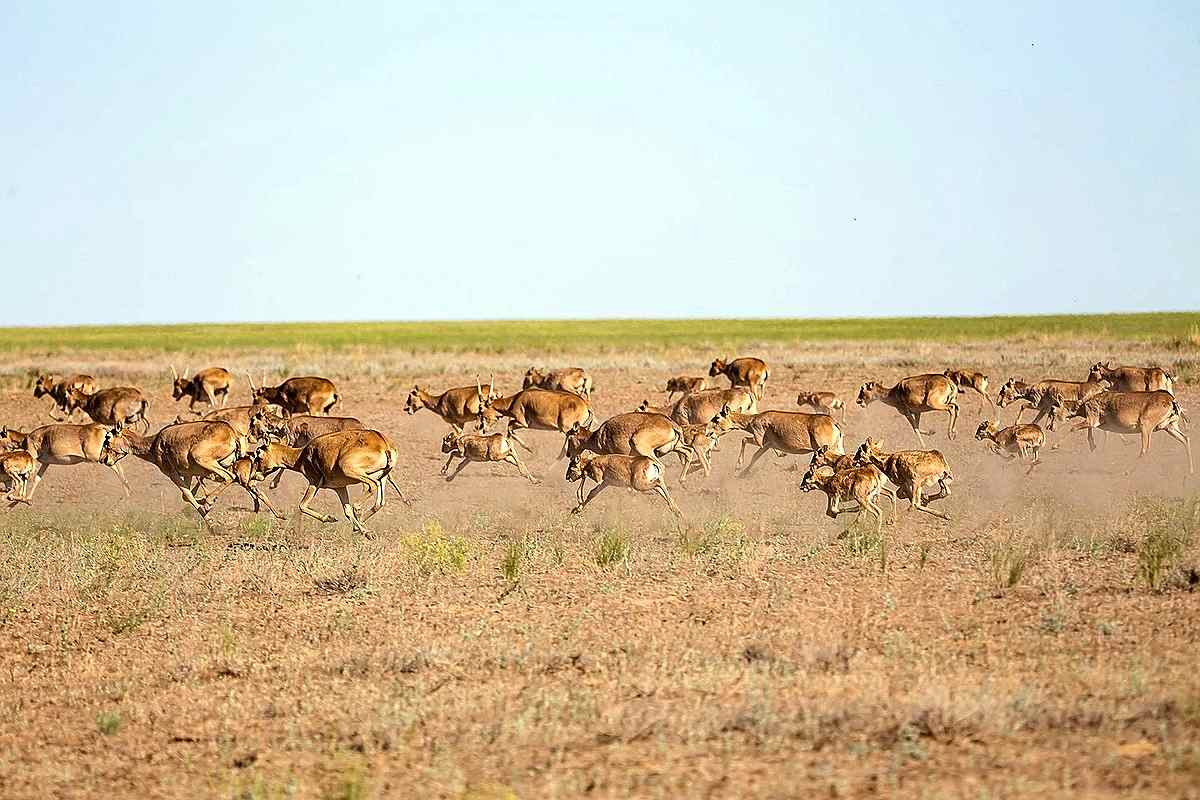saiga: (93, 413, 255, 516), (242, 437, 414, 519), (1039, 386, 1191, 464), (470, 371, 596, 448), (567, 449, 687, 511), (807, 453, 884, 522), (397, 376, 500, 419), (161, 355, 240, 411)
